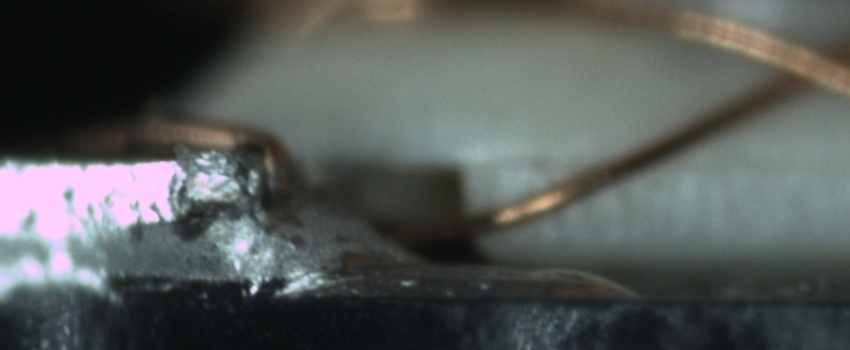DL: (483, 138, 621, 192)
TE: (101, 114, 298, 210)
